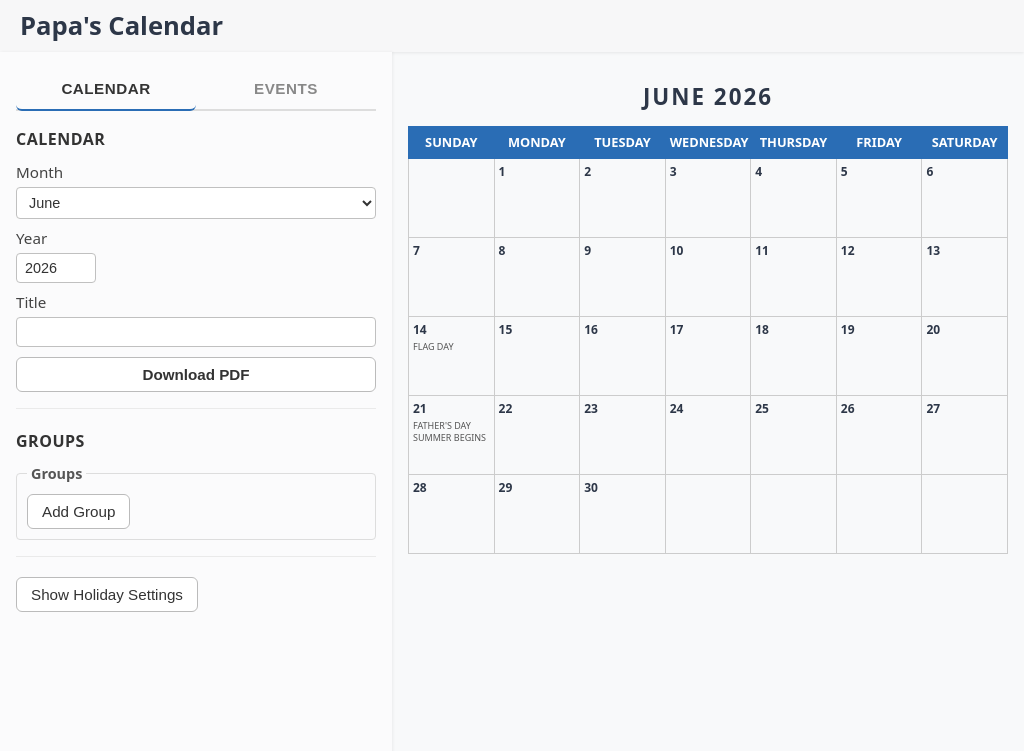
Test case: recurring events appear on correct days in the preview
This screenshot has width=1024, height=751.
Note: Switch to Events tab and add a recurring event
Click the button "Events" at (286, 90), box 196,68 -> 376,111
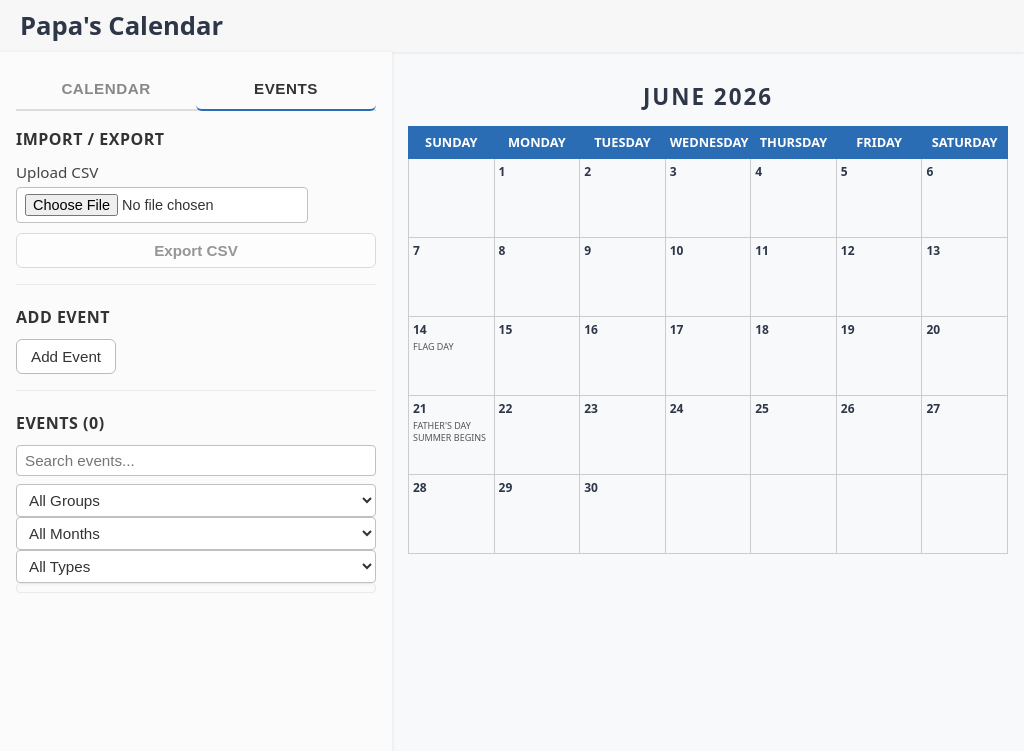
Click the button "Add Event" at (66, 356), box 16,339 -> 116,374
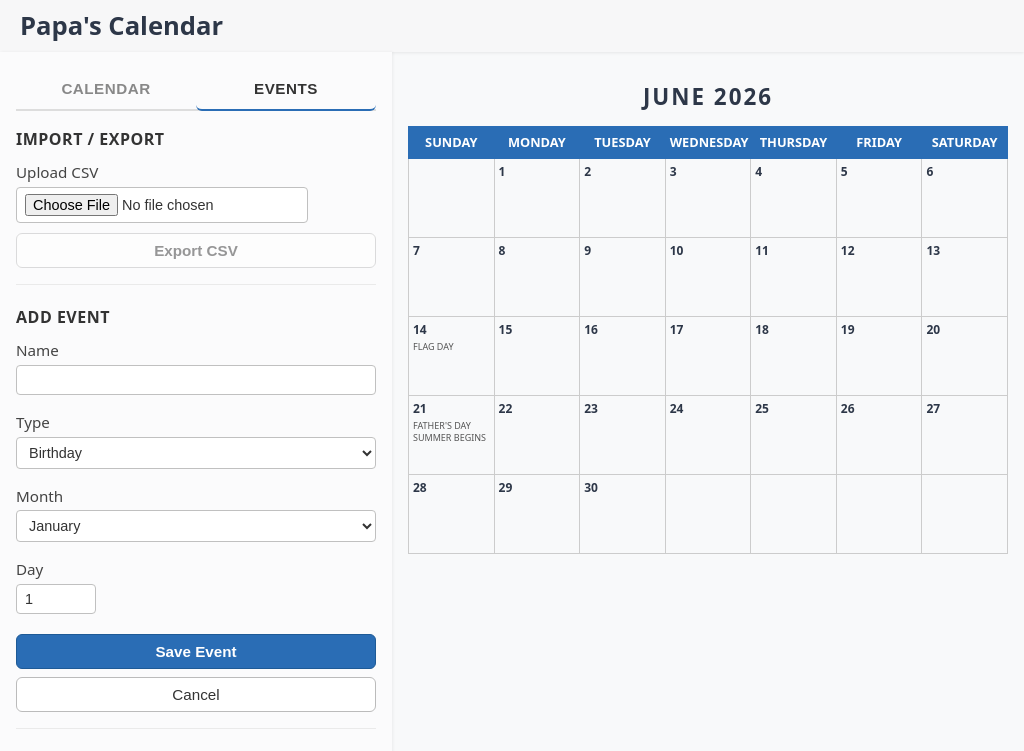
Note: Add a group first so the event is visible
Type "CHURCH - 9 AM" into the field labelled "Name" at (196, 380), box 16,365 -> 376,395
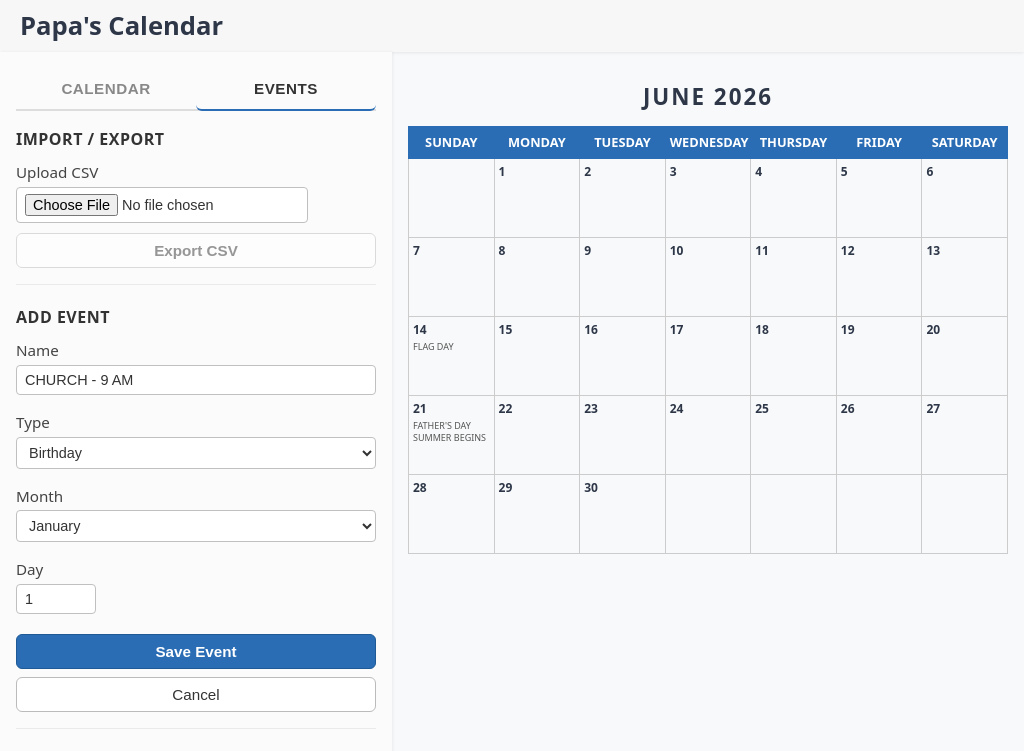
Select "Recurring" in the dropdown labelled "Type" at (196, 452), box 16,436 -> 376,468
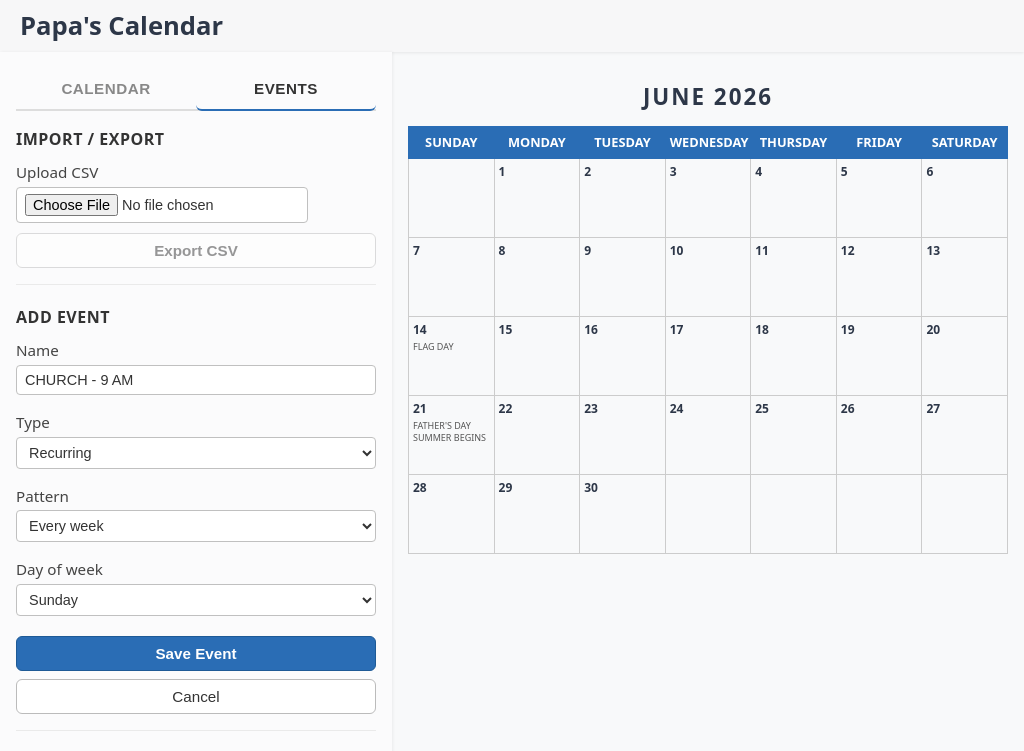
Select "Sunday" in the dropdown labelled "Day of week" at (196, 600), box 16,584 -> 376,616
Click the button "Save Event" at (196, 654), box 16,636 -> 376,671
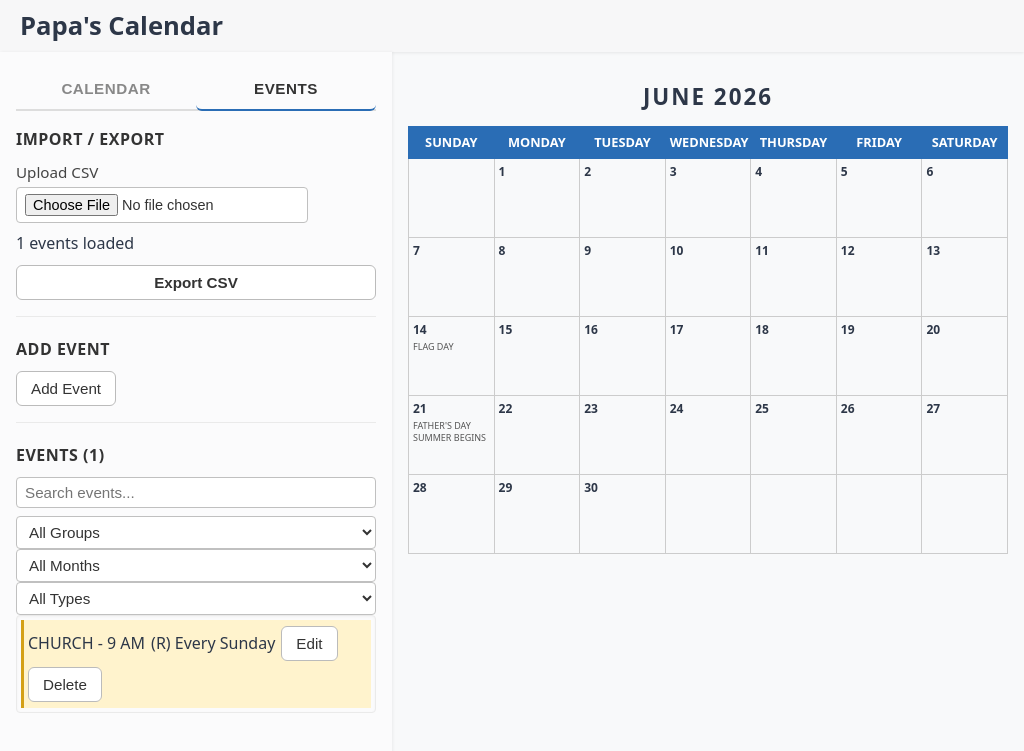
Check: the text "CHURCH - 9 AM" is shown, box 28,631 -> 145,655
